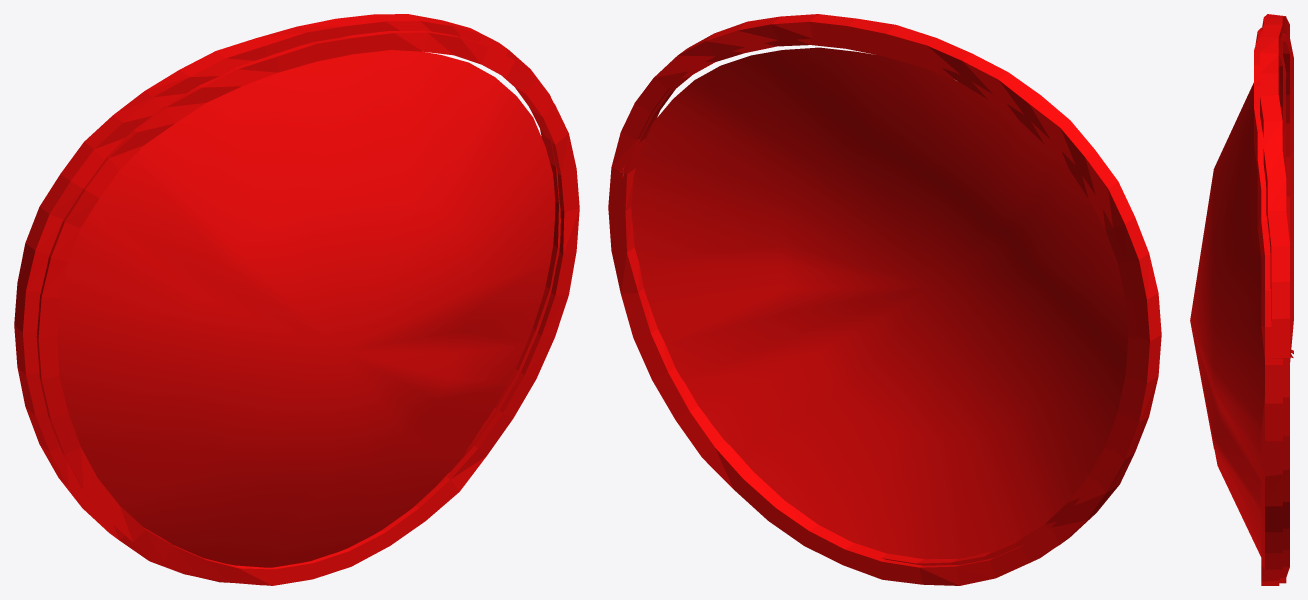
File: red.FBX
3 views of the same model, side by side, from view 1: azimuth 30°, elevation 25°; view 2: azimuth 150°, elevation 25°; view 3: azimuth 270°, elevation 25° (orthographic). The views are drawn at different scales.
Visible parts, largest first — view 1: VIFS05, VIFS06, VIFS007; view 2: VIFS05, VIFS007, VIFS06; view 3: VIFS05, VIFS007, VIFS06.
Part boxes in pixels (box(x1,y1,x2,y2)): VIFS05: box(57, 50, 555, 582); VIFS06: box(36, 30, 579, 585); VIFS007: box(14, 14, 560, 585); VIFS05: box(631, 47, 1128, 559); VIFS007: box(608, 14, 1161, 585); VIFS06: box(639, 39, 1136, 565); VIFS05: box(1190, 82, 1264, 556); VIFS007: box(1260, 14, 1293, 583); VIFS06: box(1254, 27, 1286, 585).
Size of the model in its own units: 13.15 by 12.55 by 2.32.
